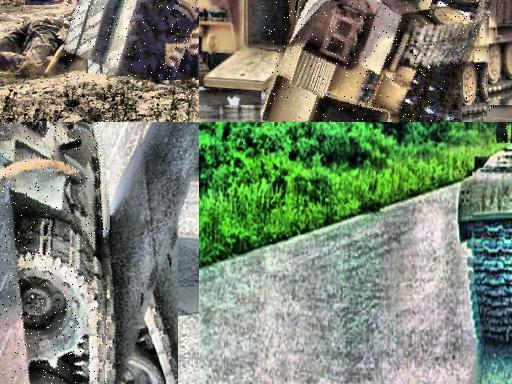tanks: (1, 123, 109, 384), (262, 1, 490, 123), (65, 1, 198, 81), (459, 147, 512, 345), (497, 123, 510, 144)
